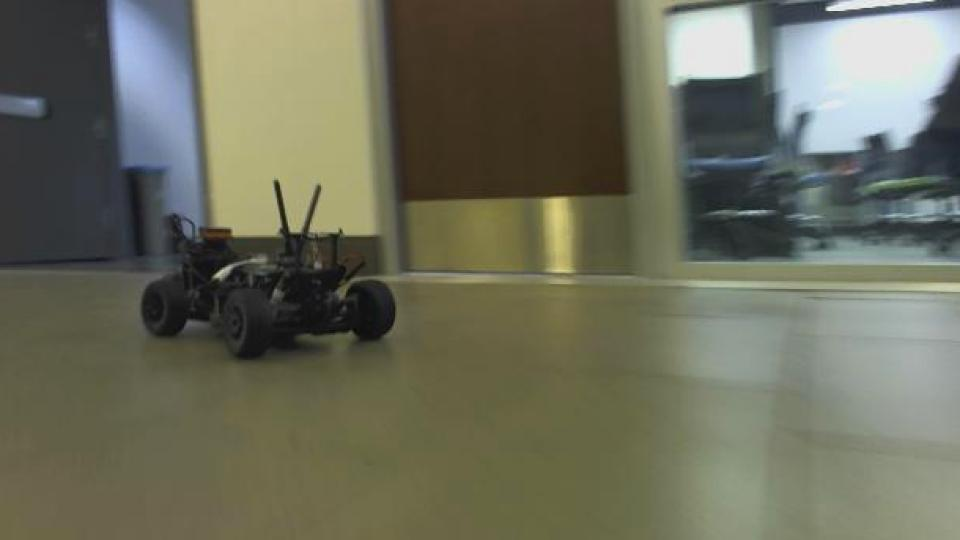car: (138, 177, 400, 361)
